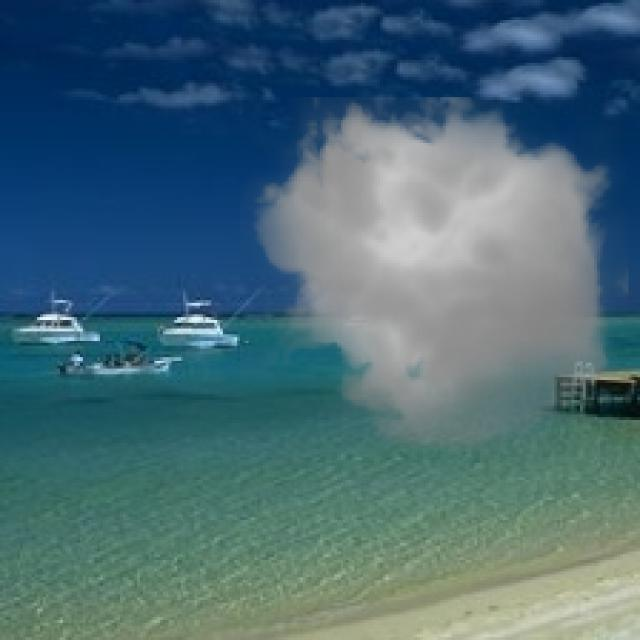smoke: (240, 80, 629, 463)
